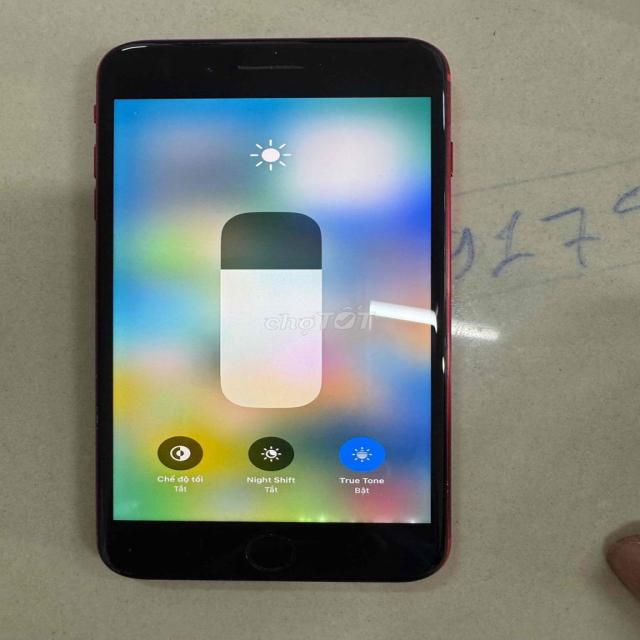gen_7_8: (86, 30, 482, 589)
